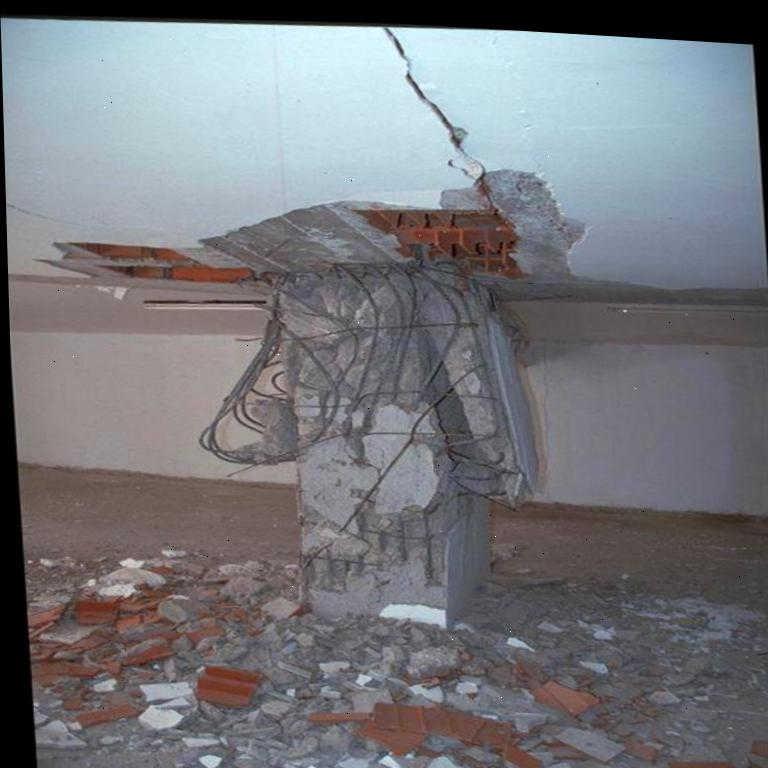spalling: (201, 203, 536, 620), (486, 169, 585, 277), (441, 187, 487, 209)
